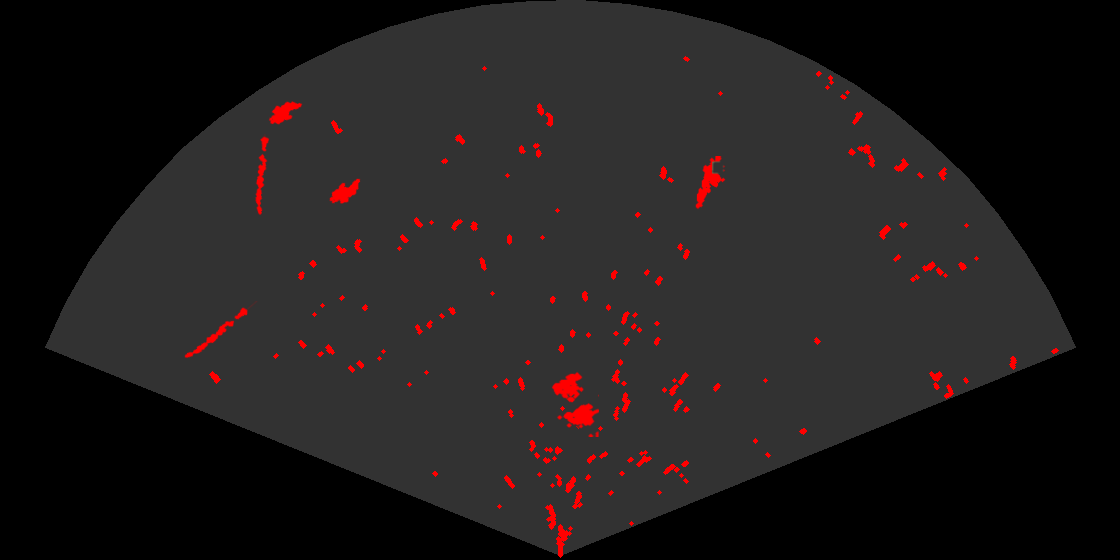AUV: (267, 100, 304, 126), (328, 177, 362, 205)
cage: (550, 370, 599, 437)
chain: (183, 301, 259, 360), (253, 134, 271, 216)
frogman: (694, 156, 727, 210)
